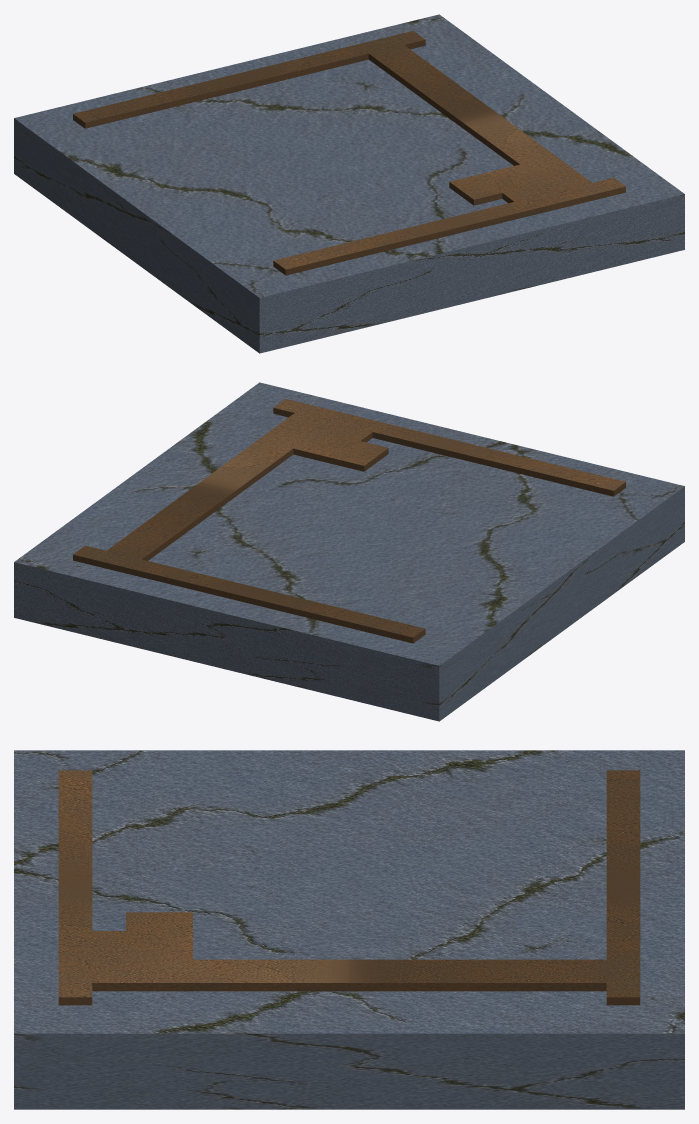
Rendered from arena_transition_right.glb.
3 views of the same model, one above another, from view 1: azimuth 30°, elevation 25°; view 2: azimuth 150°, elevation 25°; view 3: azimuth 270°, elevation 25° (orthographic). The views are drawn at different scales.
Parts seen in each view (by area): view 1: arena_transition_right; view 2: arena_transition_right; view 3: arena_transition_right.
Boxes of the visible parts, x1,y1,x2,y2 form: arena_transition_right: (14, 14, 684, 353); arena_transition_right: (14, 382, 684, 721); arena_transition_right: (14, 750, 684, 1109).
Size of the model in its own units: 1.2 by 0.166 by 1.2.
2 materials, 2 textured.
